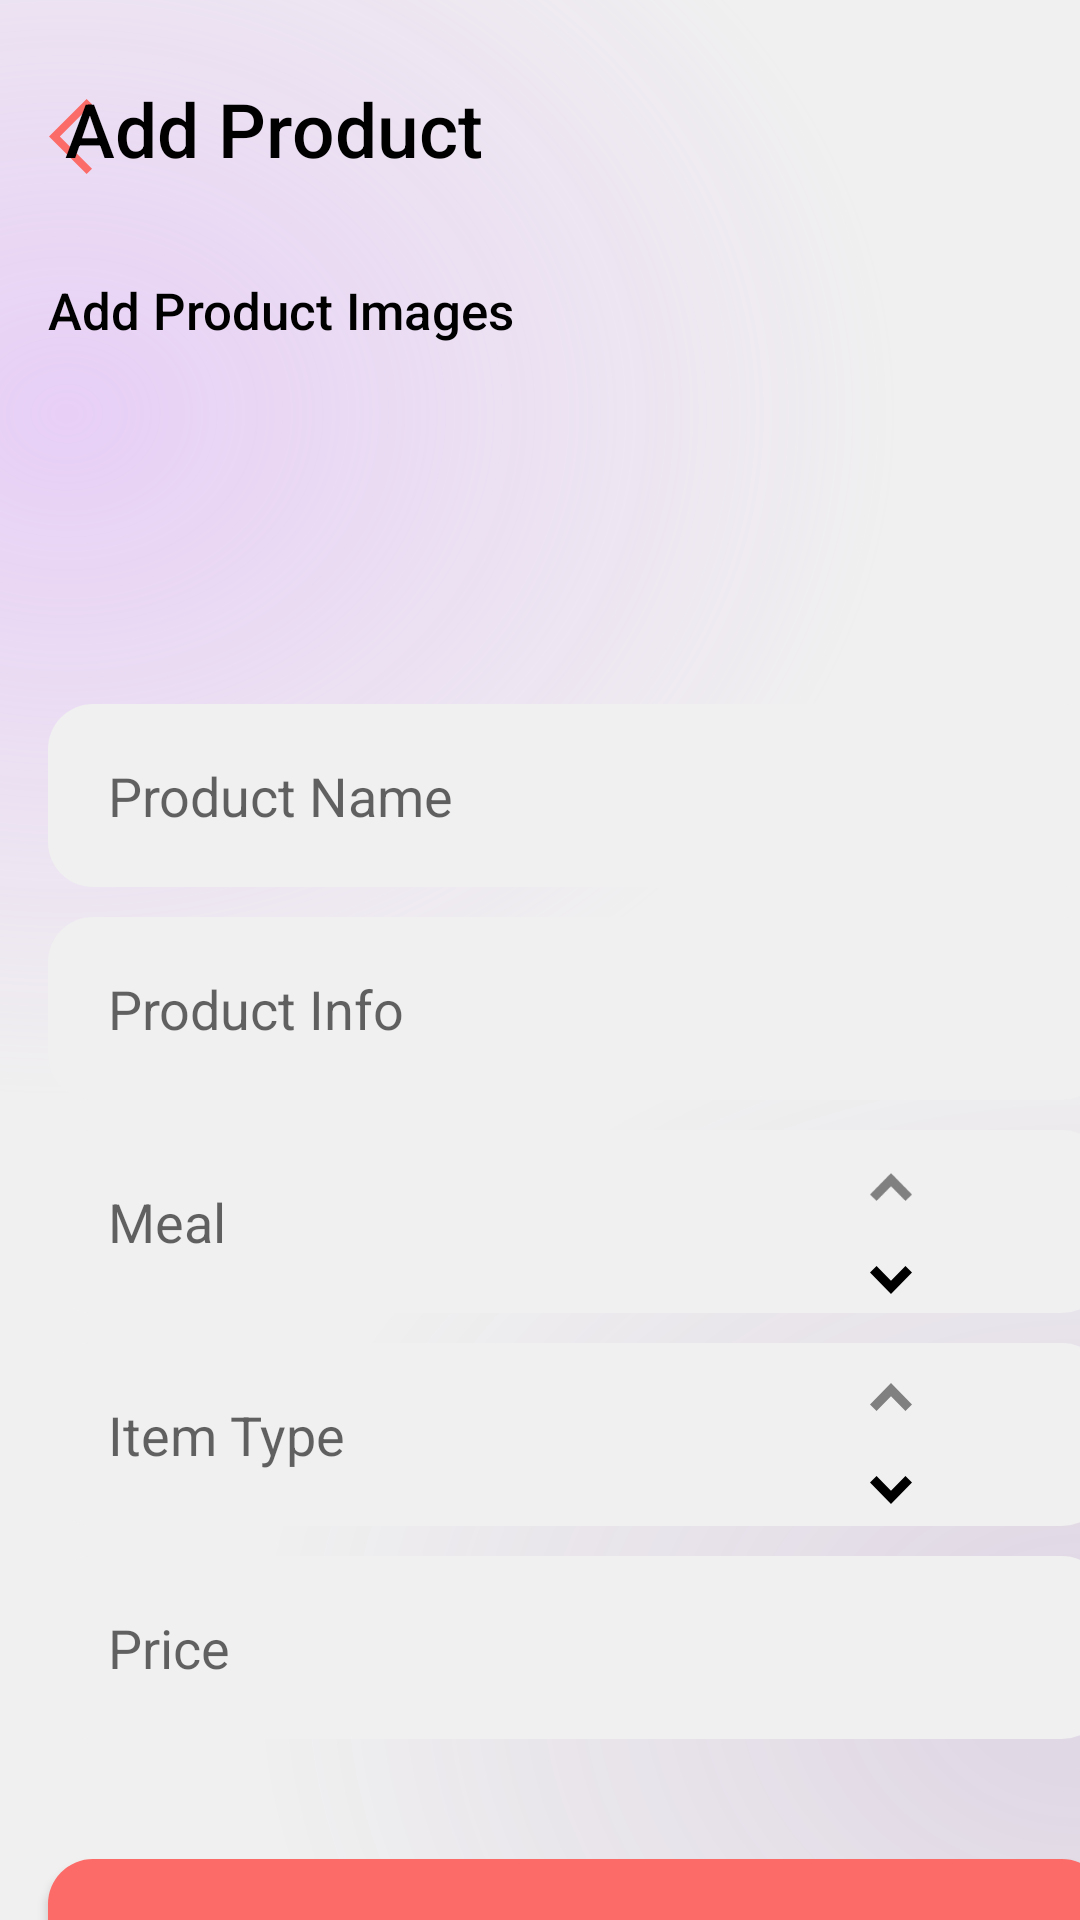

Screen size 1080*1920. Icon name, then its box in pixels as (x1, y1, x2, y2):
down arrow: (870, 1266, 912, 1294), (870, 1476, 912, 1504)
up arrow: (870, 1173, 912, 1201), (870, 1383, 912, 1411)
